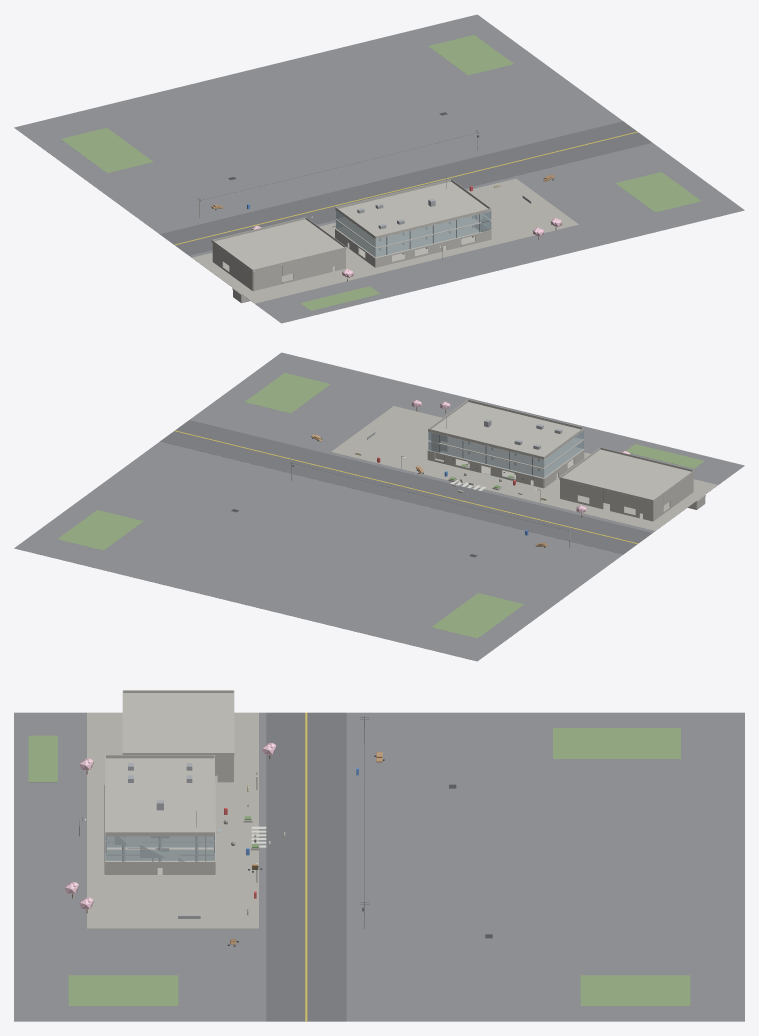
File: zone_8.glb
The picture shows the model from 3 angles, top to bottom: view 1: azimuth 30°, elevation 25°; view 2: azimuth 150°, elevation 25°; view 3: azimuth 270°, elevation 25°; orthographic projection. The views are drawn at different scales.
Parts seen in each view (by area): view 1: zone_akitsu_z8; view 2: zone_akitsu_z8; view 3: zone_akitsu_z8.
Part boxes in pixels (box(x1,y1,x2,y2)): zone_akitsu_z8: box(14, 14, 744, 323); zone_akitsu_z8: box(14, 352, 744, 661); zone_akitsu_z8: box(14, 690, 744, 1021).
Bounding box in the file's own units: 200 × 20.8 × 200.
